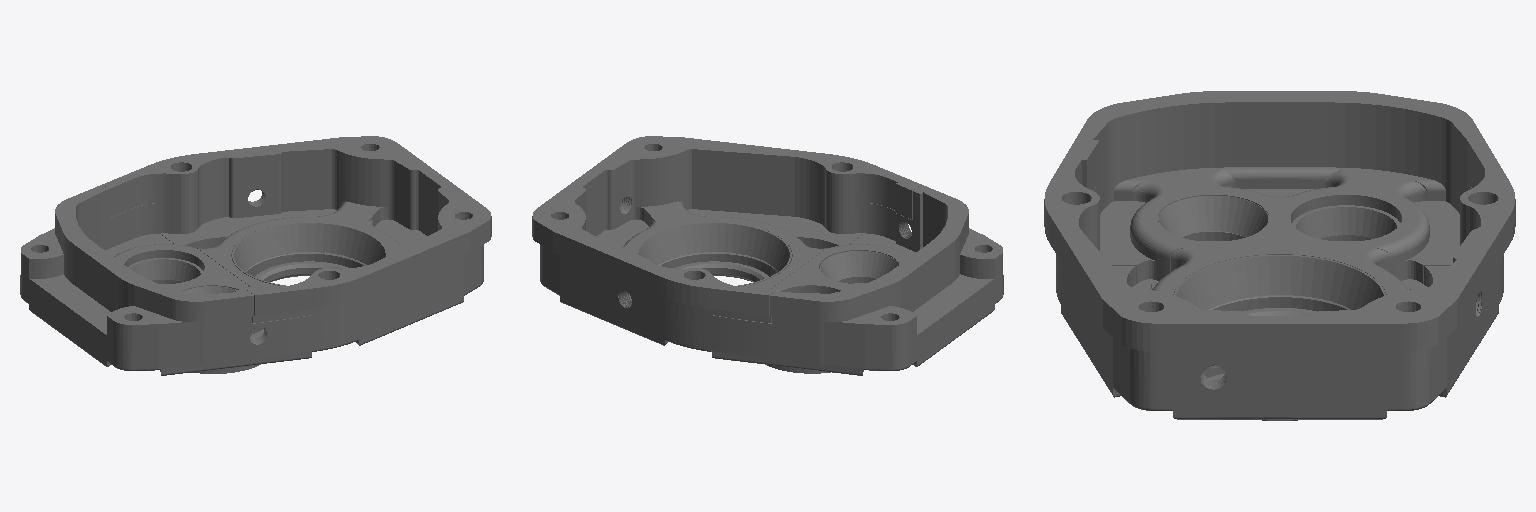
URDF robot description (case):
<?xml version="0.0" ?>
<robot name="case">
  <link name="case_link" concave="yes">
    <inertial>
      <mass value="0.8"/>
      <inertia ixx="0.1" ixy="0.0" ixz="0.0" iyy="0.1" iyz="0.0" izz="0.1"/>
    </inertial>
    <visual>
      <origin rpy="0 0 0" xyz="0 0 0"/>
      <geometry>
        <mesh filename="case.stl"/>
      </geometry>
      <material name="white">
        <color rgba="0.5 0.5 0.5 1"/>
      </material>
    </visual>
    <collision concave="yes">
      <origin rpy="0 0 0" xyz="0 0 0"/>
      <geometry>
	 	    <mesh filename="case.stl"/>
      </geometry>
    </collision>
  </link>
</robot>

--- Render facts (derived) ---
Views: 3 orthographic renders of the robot side by side, from view 1: azimuth 30°, elevation 25°; view 2: azimuth 150°, elevation 25°; view 3: azimuth 270°, elevation 25°.
Robot: case — 1 links, 0 joints (none); root link case_link; default pose: every joint at zero.
Visible links, largest first — view 1: case_link; view 2: case_link; view 3: case_link.
Boxes of the visible links, x1,y1,x2,y2 form: case_link: (20,136,491,375); case_link: (532,136,1003,375); case_link: (1044,91,1515,420).
Bounding box of the posed robot: 0.2773 × 0.22 × 0.0659 m (x, y, z).
1 mesh visuals loaded from 1 distinct referenced files (1 binary STL).